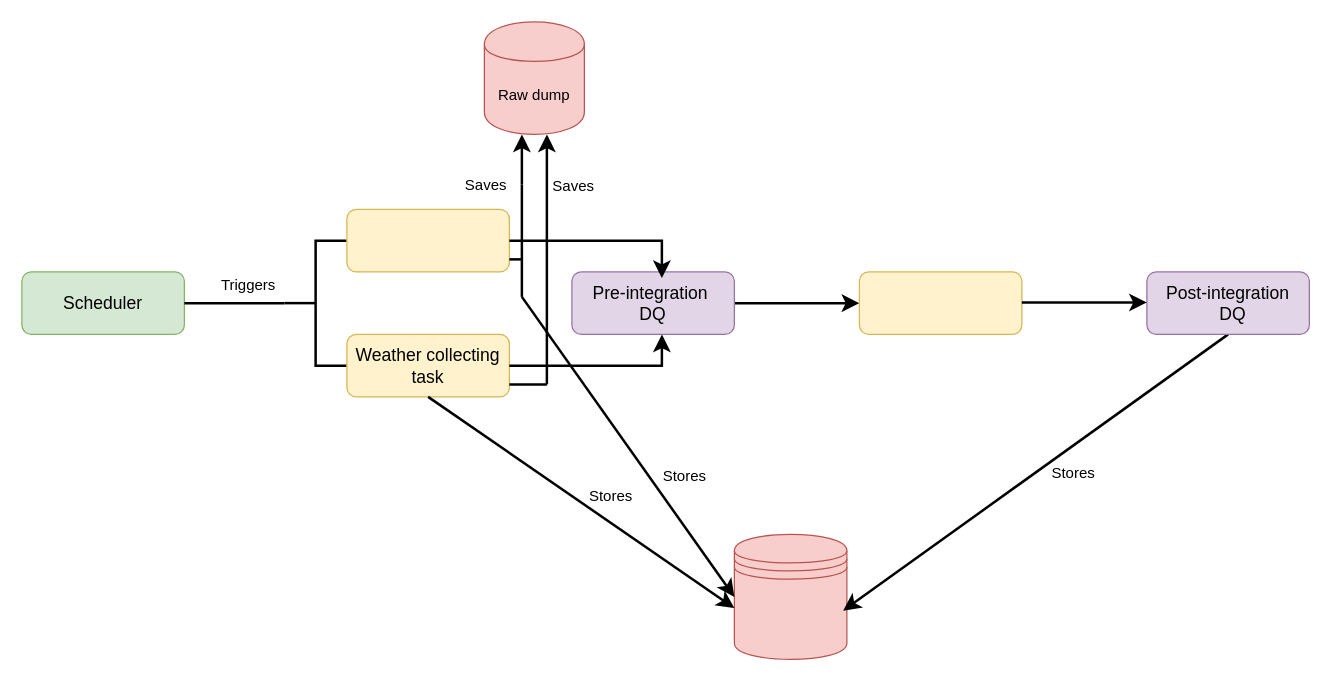
Some shapes in this 1331 by 681 pixel diagram are drawn without their labels. The centre of each missing label's shape, as x and y in pixels:
"Integration task" belongs at pixel 940 302.
"Storage PGSQL" belongs at pixel 790 596.
"Train collecting task" belongs at pixel 427 240.
